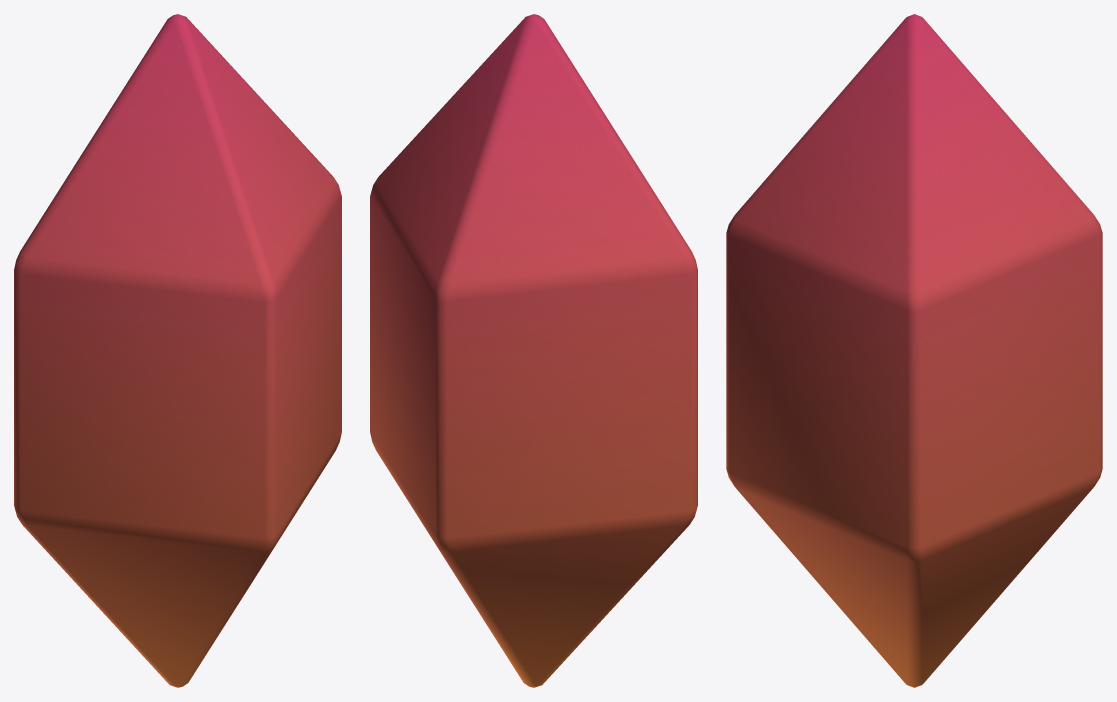
File: amber.glb
3 renders of one model, left to right at view 1: azimuth 30°, elevation 25°; view 2: azimuth 150°, elevation 25°; view 3: azimuth 270°, elevation 25°, orthographic.
Parts seen in each view (by area): view 1: Plane.001; view 2: Plane.001; view 3: Plane.001.
Part boxes in pixels (left/top/right/bottom): Plane.001: left=14, top=14, right=341, bottom=687; Plane.001: left=370, top=14, right=697, bottom=687; Plane.001: left=726, top=14, right=1102, bottom=687.
Bounding box in the file's own units: 1.96 × 3.87 × 1.96.
Materials: 1 (1 with a texture image).
